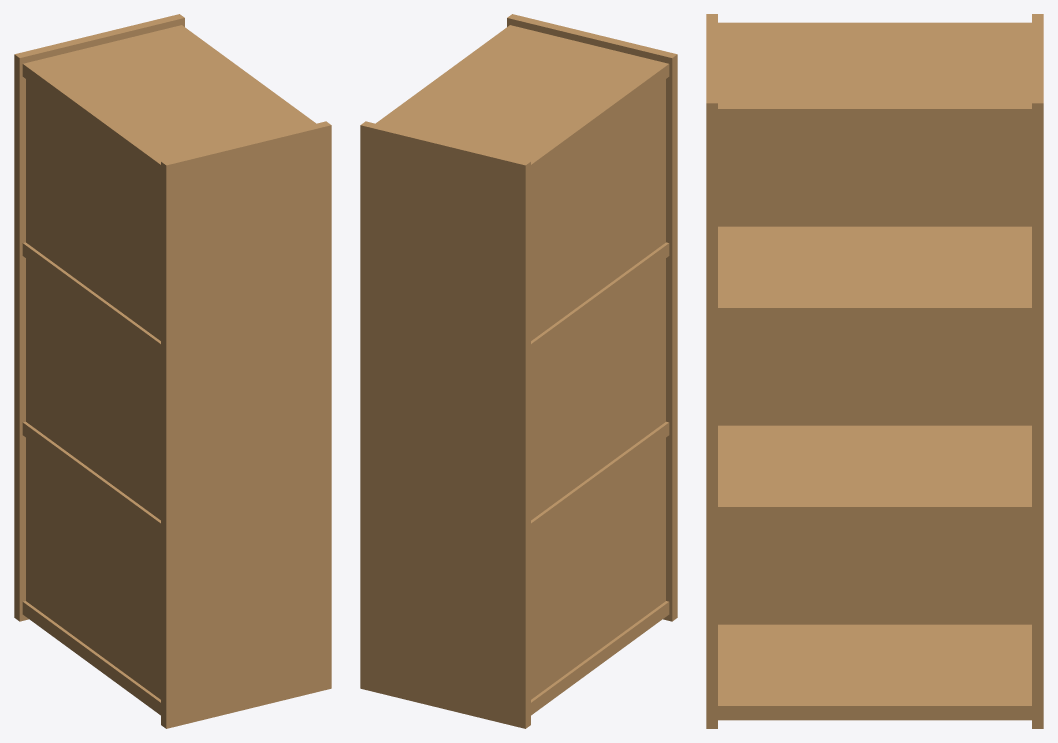
The model's file is color-box.glb.
The picture shows the model from 3 angles, left to right: view 1: azimuth 30°, elevation 25°; view 2: azimuth 150°, elevation 25°; view 3: azimuth 270°, elevation 25°; orthographic projection. The views are drawn at different scales.
Parts seen in each view (by area): view 1: Side, Back, Shelf; view 2: Side, Back, Shelf; view 3: Shelf, Back, Side.
Boxes of the visible parts, x1,y1,x2,y2 form: Side: [14, 14, 331, 728]; Back: [26, 79, 160, 699]; Shelf: [22, 25, 315, 715]; Side: [360, 14, 677, 728]; Back: [531, 79, 665, 699]; Shelf: [376, 25, 669, 715]; Shelf: [718, 22, 1031, 720]; Back: [718, 123, 1031, 624]; Side: [706, 14, 1043, 728].
Size of the model in its own units: 0.27 by 0.88 by 0.43.
